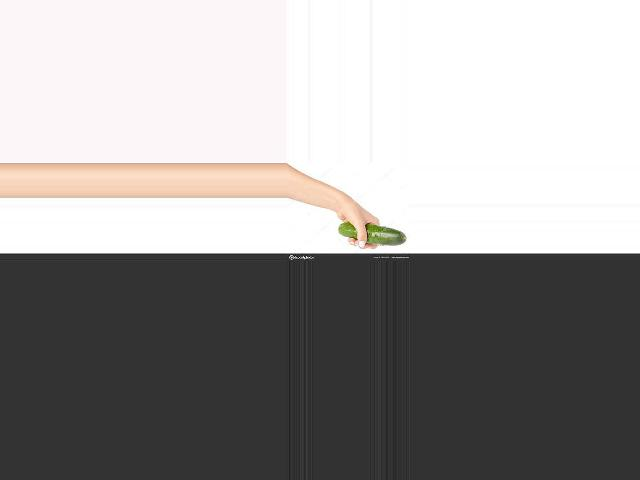cucumber: (338, 222, 407, 246)
